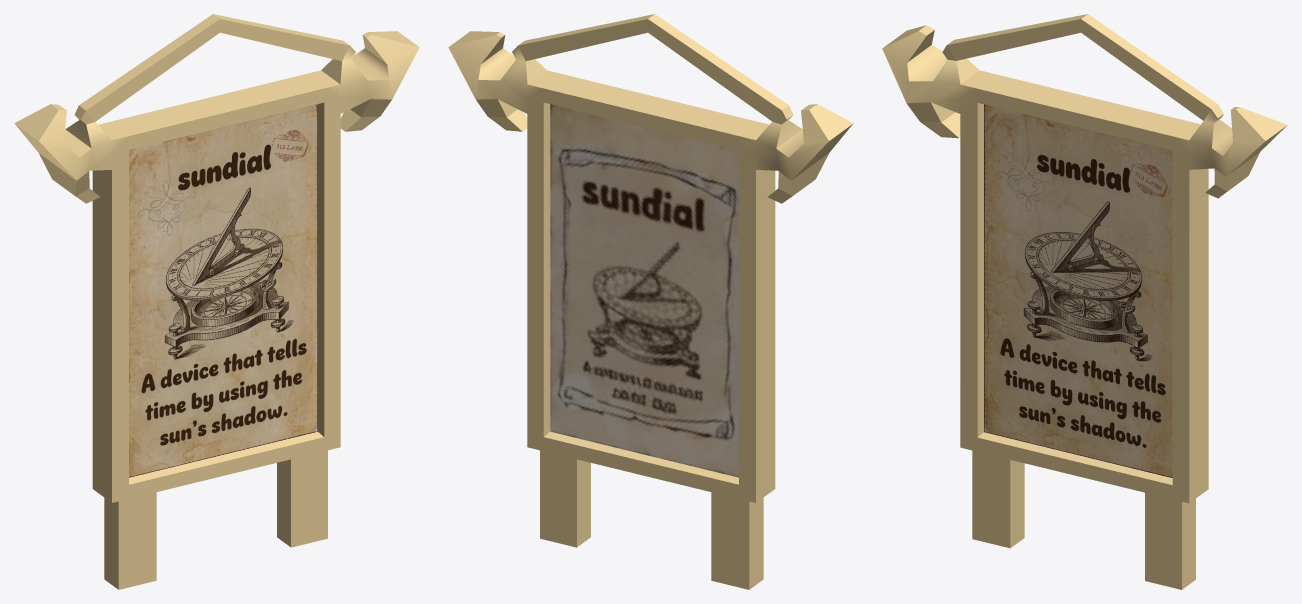
File: sundial.fbx
The picture shows the model from 3 angles, left to right: view 1: azimuth 30°, elevation 25°; view 2: azimuth 150°, elevation 25°; view 3: azimuth 330°, elevation 25°; orthographic projection.
Visible parts, largest first — view 1: sundial; view 2: sundial; view 3: sundial.
Part boxes in pixels (left/top/right/bottom): sundial: left=14, top=14, right=419, bottom=589; sundial: left=448, top=14, right=853, bottom=589; sundial: left=882, top=14, right=1287, bottom=589.
Bounding box in the file's own units: 6.69 × 9.09 × 1.16.
